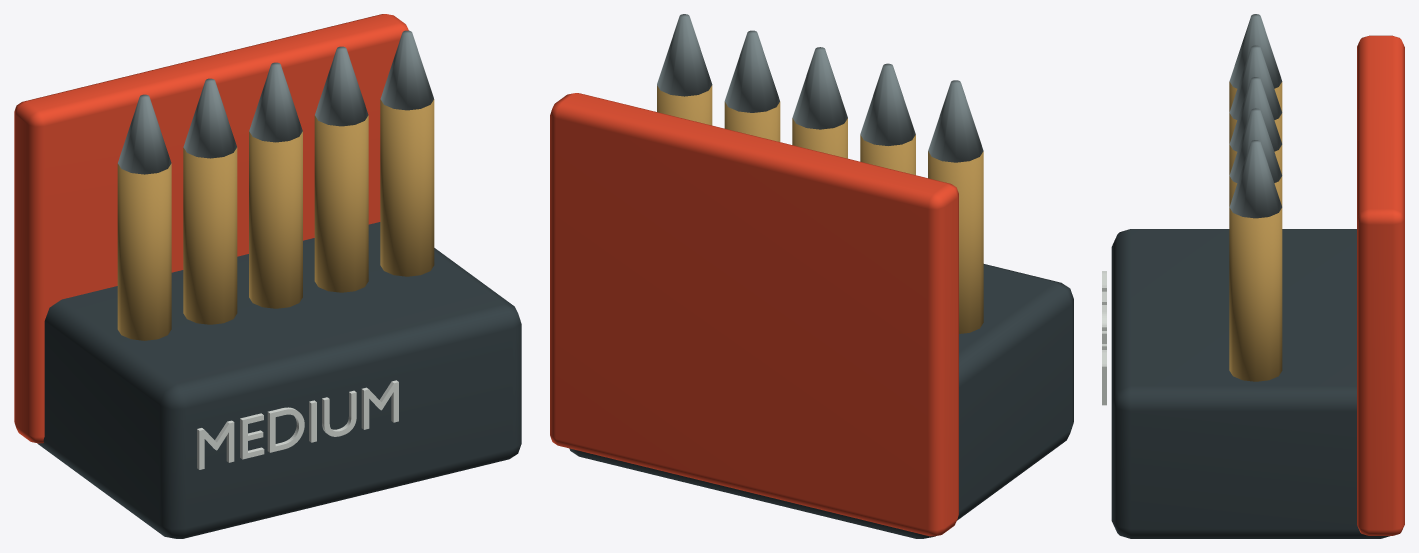
Rendered from ammo_medium.glb.
The picture shows the model from 3 angles, left to right: view 1: azimuth 30°, elevation 25°; view 2: azimuth 150°, elevation 25°; view 3: azimuth 270°, elevation 25°; orthographic projection. The views are drawn at different scales.
Parts seen in each view (by area): view 1: ammo_medium; view 2: ammo_medium; view 3: ammo_medium.
Part boxes in pixels (x1,y1,x2,y2): ammo_medium: (14,14,521,538); ammo_medium: (550,14,1073,538); ammo_medium: (1102,14,1404,538).
Size of the model in its own units: 0.18 by 0.175 by 0.126.
